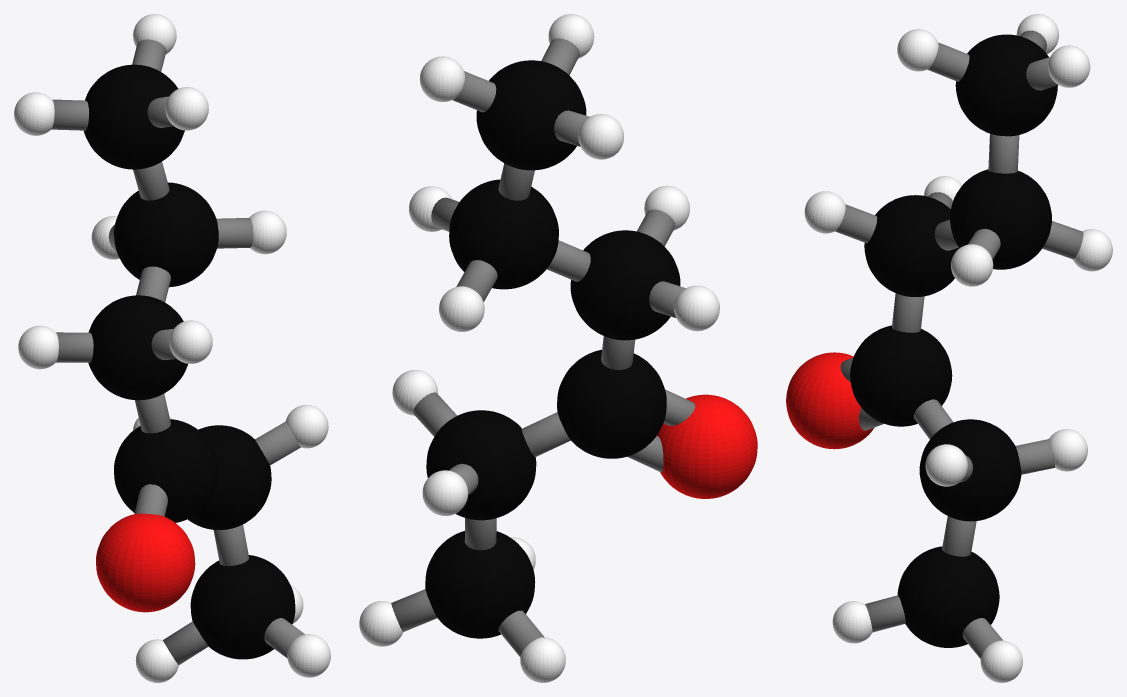
Rendered from HEXANONA.obj.
The picture shows the model from 3 angles, left to right: view 1: azimuth 30°, elevation 25°; view 2: azimuth 150°, elevation 25°; view 3: azimuth 270°, elevation 25°; orthographic projection. The views are drawn at different scales.
Parts seen in each view (by area): view 1: Carbon_ball_Sphere.002, Hydrogen_ball_Sphere.001, Oxygen_ball_Sphere, Stick_Cylinder.015_Cylinder.015, Stick_Cylinder.008_Cylinder.008, Stick_Cylinder.001_Cylinder.001, Stick_Cylinder.006_Cylinder.006, Stick_Cylinder.009_Cylinder.009, Stick_Cylinder.012_Cylinder.012, Stick_Cylinder.003_Cylinder.003, Stick_Cylinder.011_Cylinder.011, Stick_Cylinder.002_Cylinder.002 (+5 smaller); view 2: Carbon_ball_Sphere.002, Hydrogen_ball_Sphere.001, Oxygen_ball_Sphere, Stick_Cylinder.017_Cylinder.017, Stick_Cylinder.014_Cylinder.014, Stick_Cylinder.002_Cylinder.002, Stick_Cylinder.006_Cylinder.006, Stick_Cylinder.016_Cylinder.016, Stick_Cylinder.008_Cylinder.008, Stick_Cylinder.011_Cylinder.011, Stick_Cylinder.010_Cylinder.010, Stick_Cylinder.003_Cylinder.003 (+8 smaller); view 3: Carbon_ball_Sphere.002, Hydrogen_ball_Sphere.001, Oxygen_ball_Sphere, Stick_Cylinder.011_Cylinder.011, Stick_Cylinder.015_Cylinder.015, Stick_Cylinder.003_Cylinder.003, Stick_Cylinder.005_Cylinder.005, Stick_Cylinder.013_Cylinder.013, Stick_Cylinder.010_Cylinder.010, Stick_Cylinder.004_Cylinder.004, Stick_Cylinder.007_Cylinder.007, Stick_Cylinder.017_Cylinder.017 (+4 smaller).
Boxes of the visible parts, x1,y1,x2,y2 form: Carbon_ball_Sphere.002: [84, 64, 295, 659]; Hydrogen_ball_Sphere.001: [14, 14, 330, 682]; Oxygen_ball_Sphere: [96, 513, 195, 612]; Stick_Cylinder.015_Cylinder.015: [213, 524, 249, 566]; Stick_Cylinder.008_Cylinder.008: [255, 421, 300, 465]; Stick_Cylinder.001_Cylinder.001: [56, 332, 93, 362]; Stick_Cylinder.006_Cylinder.006: [163, 621, 208, 664]; Stick_Cylinder.009_Cylinder.009: [216, 218, 253, 248]; Stick_Cylinder.012_Cylinder.012: [51, 99, 88, 130]; Stick_Cylinder.003_Cylinder.003: [135, 394, 170, 433]; Stick_Cylinder.011_Cylinder.011: [133, 162, 169, 200]; Stick_Cylinder.002_Cylinder.002: [136, 266, 170, 302]; Carbon_ball_Sphere.002: [425, 60, 680, 638]; Hydrogen_ball_Sphere.001: [359, 14, 719, 682]; Oxygen_ball_Sphere: [657, 394, 757, 498]; Stick_Cylinder.017_Cylinder.017: [521, 412, 570, 457]; Stick_Cylinder.014_Cylinder.014: [391, 589, 437, 631]; Stick_Cylinder.002_Cylinder.002: [547, 240, 590, 281]; Stick_Cylinder.006_Cylinder.006: [498, 610, 544, 656]; Stick_Cylinder.016_Cylinder.016: [452, 71, 496, 112]; Stick_Cylinder.008_Cylinder.008: [413, 392, 457, 436]; Stick_Cylinder.011_Cylinder.011: [498, 163, 534, 200]; Stick_Cylinder.010_Cylinder.010: [456, 260, 497, 301]; Stick_Cylinder.003_Cylinder.003: [601, 336, 635, 369]; Carbon_ball_Sphere.002: [850, 34, 1057, 647]; Hydrogen_ball_Sphere.001: [804, 14, 1112, 682]; Oxygen_ball_Sphere: [786, 352, 873, 449]; Stick_Cylinder.011_Cylinder.011: [988, 133, 1019, 173]; Stick_Cylinder.015_Cylinder.015: [942, 516, 976, 556]; Stick_Cylinder.003_Cylinder.003: [892, 293, 924, 332]; Stick_Cylinder.005_Cylinder.005: [1015, 439, 1054, 474]; Stick_Cylinder.013_Cylinder.013: [865, 595, 905, 632]; Stick_Cylinder.010_Cylinder.010: [1042, 221, 1083, 259]; Stick_Cylinder.004_Cylinder.004: [835, 204, 877, 243]; Stick_Cylinder.007_Cylinder.007: [927, 42, 969, 81]; Stick_Cylinder.017_Cylinder.017: [913, 399, 953, 439].
Size of the model in its own units: 4.71 by 9 by 4.44.
